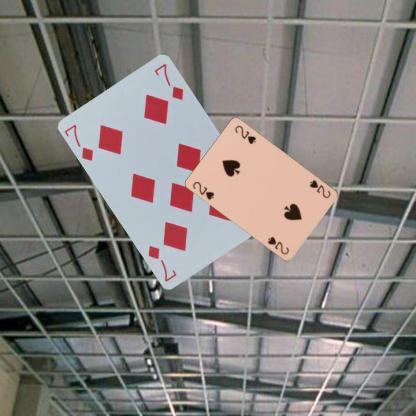2s: (190, 179, 216, 201), (307, 178, 332, 200)
7d: (62, 122, 96, 162)
